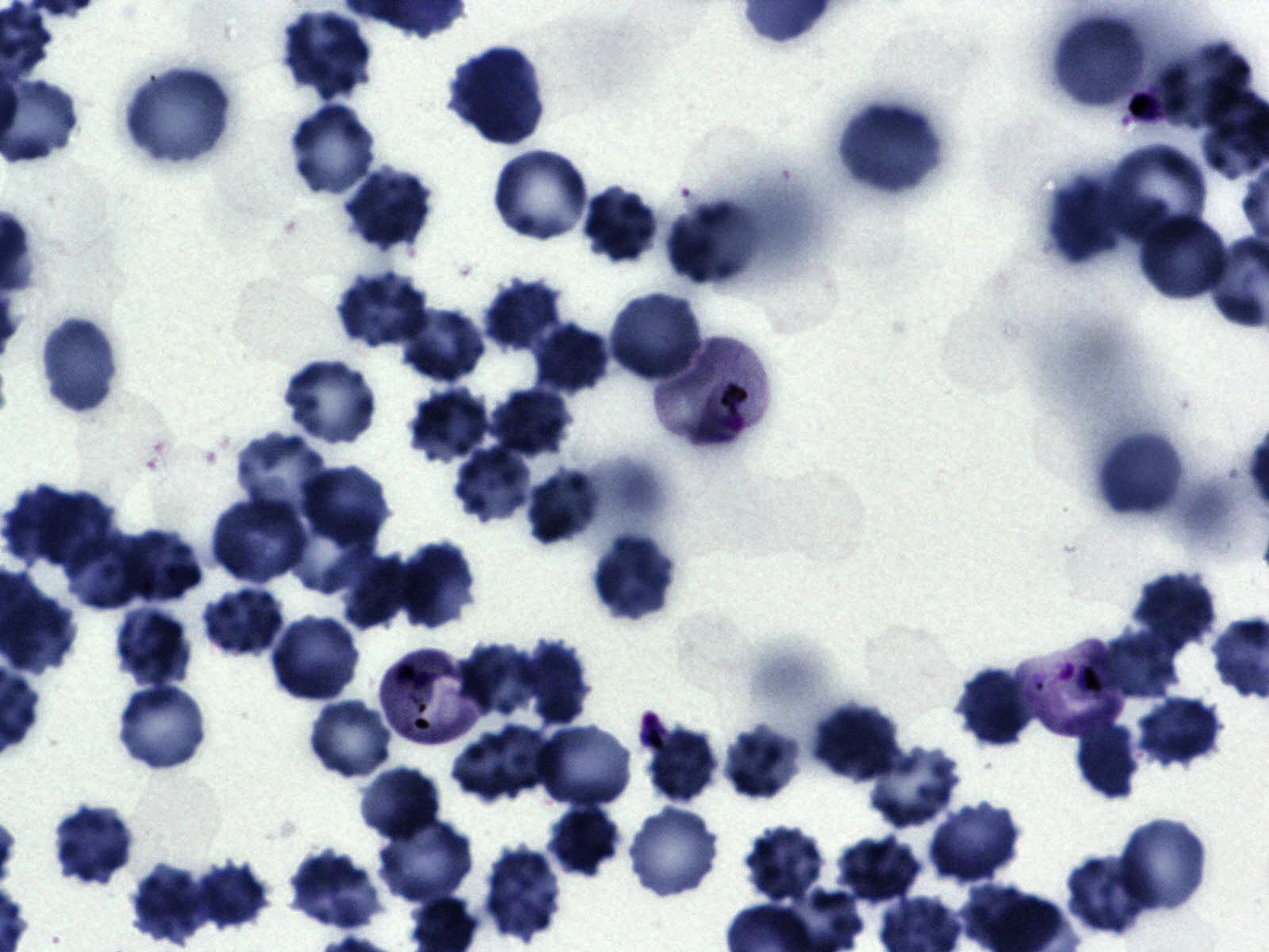Infected: (654, 336, 769, 448), (380, 646, 482, 749), (1022, 642, 1125, 742)
Uninfected: (123, 67, 231, 167), (1105, 143, 1210, 244), (838, 102, 942, 198), (1050, 13, 1148, 113), (454, 47, 547, 147), (496, 150, 592, 245), (626, 805, 723, 899), (608, 291, 704, 385), (287, 103, 380, 199), (1119, 817, 1212, 913), (534, 722, 634, 811), (281, 358, 380, 447), (209, 497, 309, 585), (229, 433, 328, 521), (114, 682, 210, 772), (1140, 209, 1230, 305), (375, 823, 470, 912), (284, 509, 379, 597), (1095, 428, 1185, 520), (866, 743, 963, 828), (667, 202, 763, 287), (453, 727, 554, 807), (279, 9, 374, 94), (298, 464, 393, 549), (39, 316, 120, 415), (926, 801, 1021, 884), (589, 534, 678, 622), (270, 616, 360, 703), (60, 528, 150, 615), (343, 166, 433, 251), (482, 849, 565, 941), (811, 703, 903, 785), (287, 851, 381, 931), (336, 271, 431, 350), (306, 698, 395, 781), (33, 491, 117, 577), (1063, 856, 1152, 936), (113, 605, 196, 690), (52, 805, 136, 888), (1133, 571, 1217, 654), (400, 305, 489, 382), (1072, 715, 1148, 804), (719, 724, 805, 802), (1135, 694, 1224, 769), (131, 864, 211, 947), (581, 184, 661, 266), (1, 486, 82, 566), (452, 447, 535, 525), (545, 801, 626, 880), (531, 321, 613, 399), (355, 766, 445, 837), (745, 827, 827, 904), (643, 723, 719, 806), (520, 638, 591, 726), (483, 277, 564, 354), (489, 387, 573, 461), (201, 585, 286, 658), (837, 834, 921, 907), (955, 671, 1033, 749), (527, 463, 597, 548), (408, 391, 488, 464), (404, 542, 475, 624), (1053, 176, 1120, 261), (343, 550, 413, 631), (194, 858, 270, 930), (458, 643, 529, 720), (121, 535, 203, 601), (1108, 626, 1179, 697), (119, 608, 184, 681)
